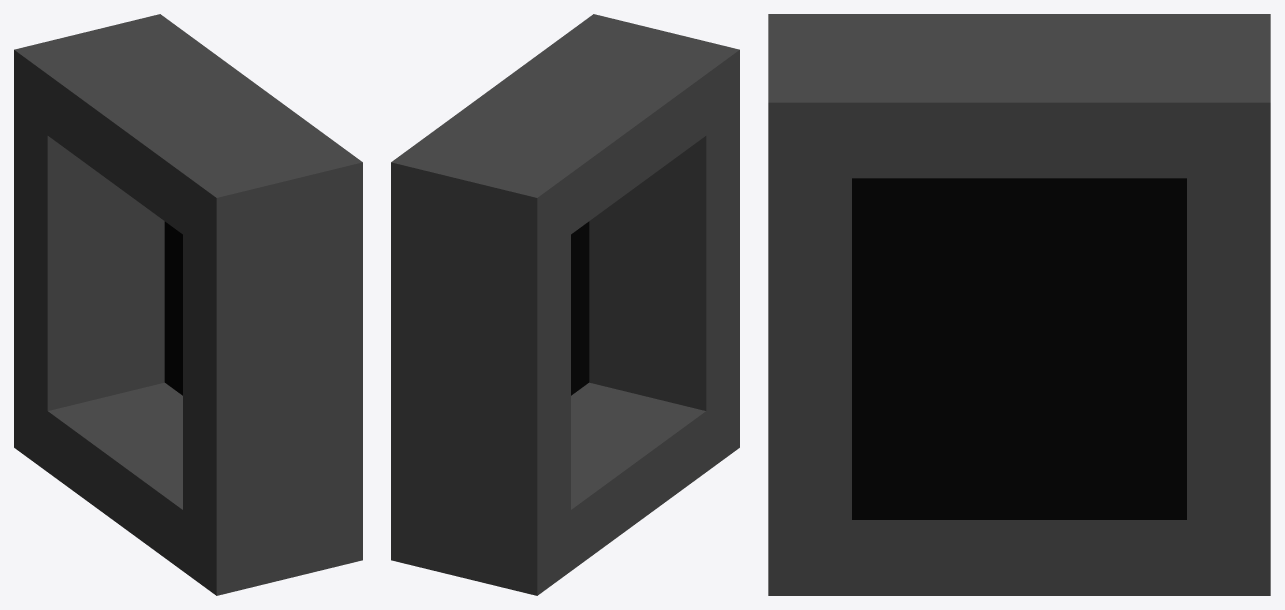
The model's file is AllSimpleModel-7-End.obj.
3 views of the same model, side by side, from view 1: azimuth 30°, elevation 25°; view 2: azimuth 150°, elevation 25°; view 3: azimuth 270°, elevation 25° (orthographic). The views are drawn at different scales.
Visible parts, largest first — view 1: End; view 2: End; view 3: End.
Part boxes in pixels (x1,y1,x2,y2): End: (14, 14, 362, 595); End: (391, 14, 739, 595); End: (768, 14, 1270, 595).
Size of the model in its own units: 0.5 by 1.3 by 1.2.
1 material, 1 textured.
